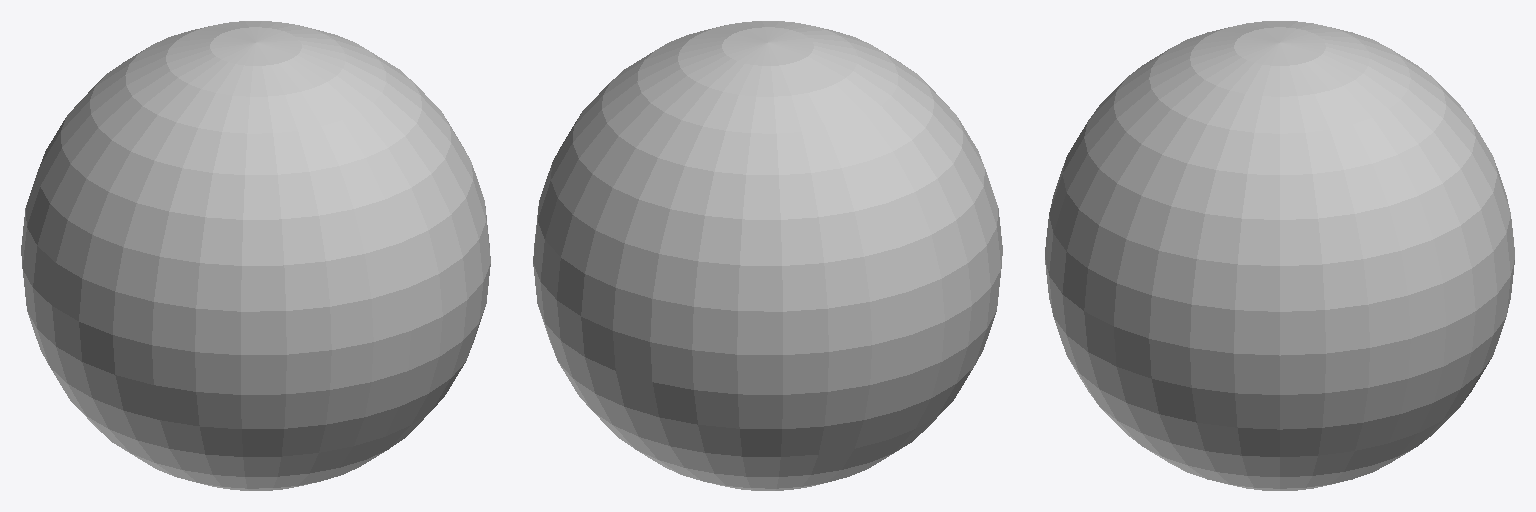
File: egg.obj
The picture shows the model from 3 angles: view 1: azimuth 30°, elevation 25°; view 2: azimuth 150°, elevation 25°; view 3: azimuth 270°, elevation 25°; orthographic projection.
Parts seen in each view (by area): view 1: Sphere_Sphere_Material; view 2: Sphere_Sphere_Material; view 3: Sphere_Sphere_Material.
Boxes of the visible parts, <box> form: Sphere_Sphere_Material: <box>21,21,490,490</box>; Sphere_Sphere_Material: <box>533,21,1002,490</box>; Sphere_Sphere_Material: <box>1045,21,1514,490</box>.
Size of the model in its own units: 1.43 by 1.43 by 1.43.